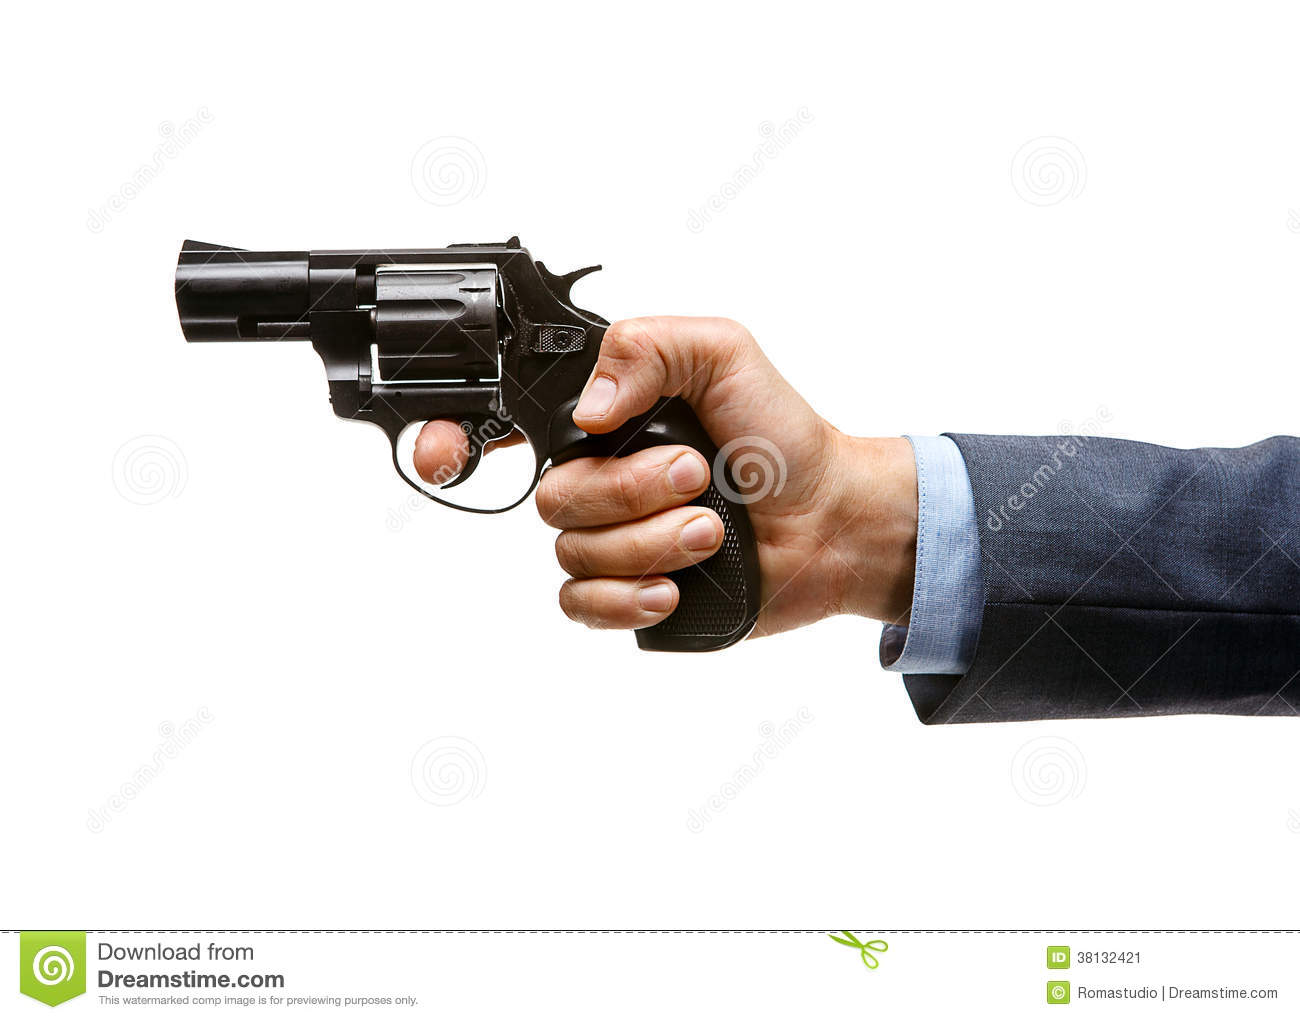Revolver: (136, 179, 784, 660)
